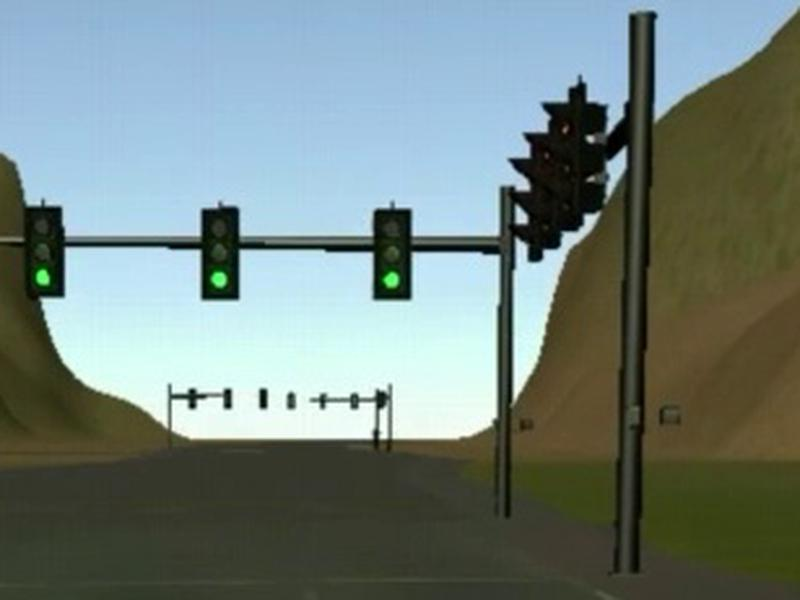Green: (24, 207, 65, 297), (372, 207, 411, 300), (203, 207, 238, 300)
